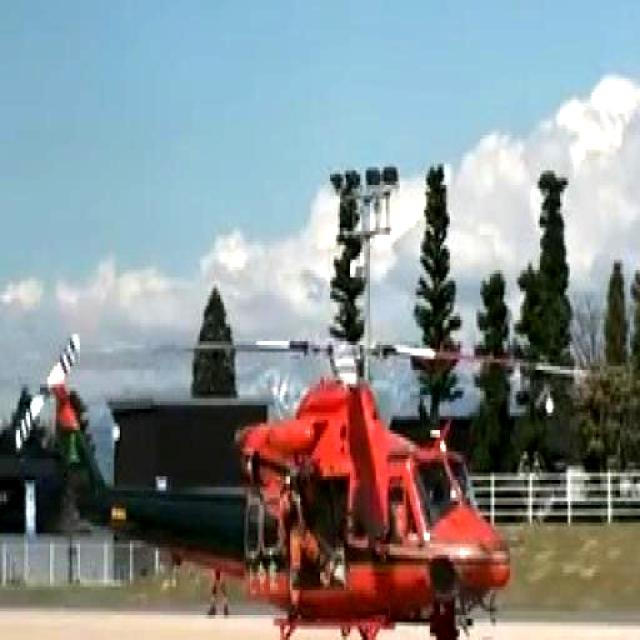drone: (6, 302, 614, 640)
